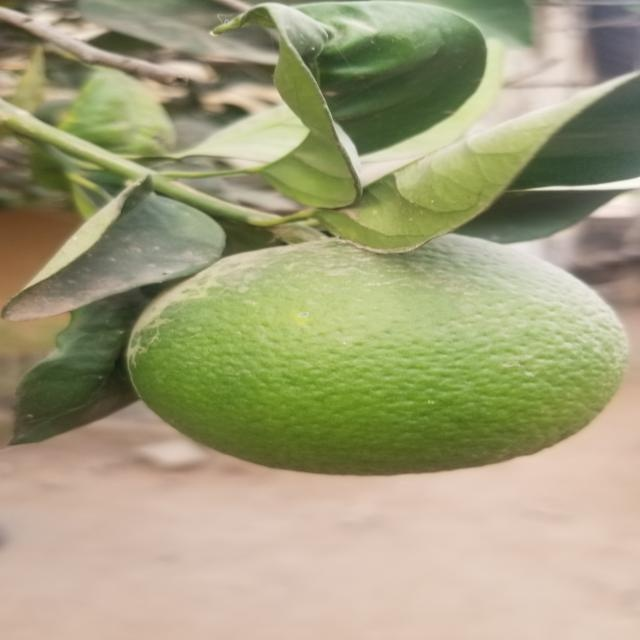agrume: (131, 239, 633, 477)
